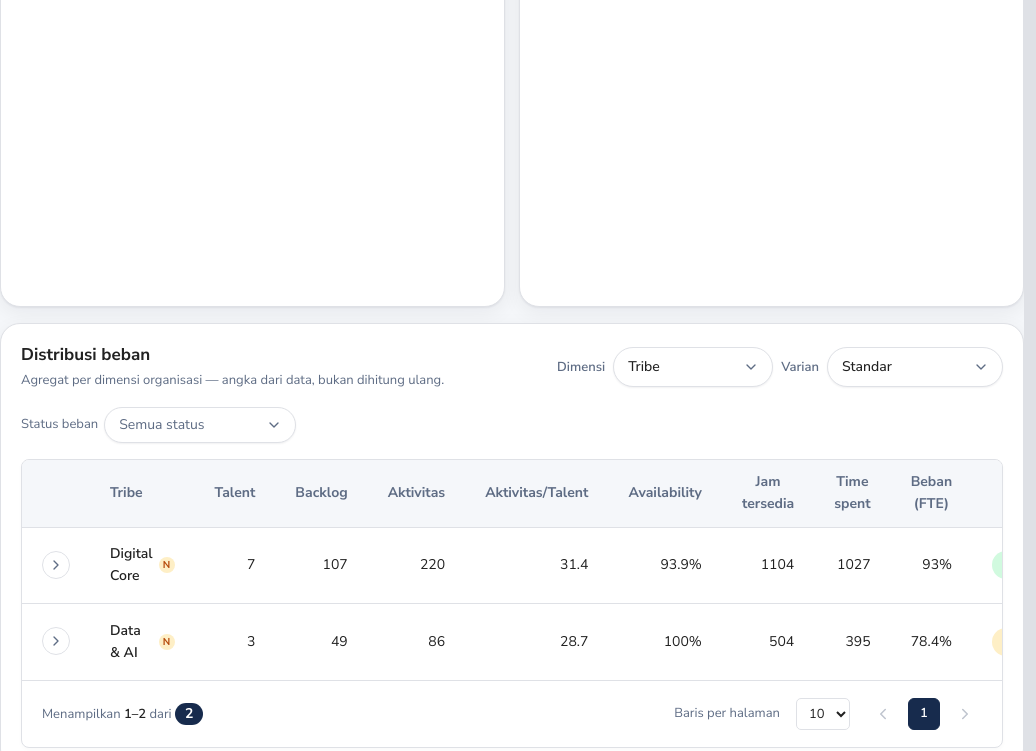
ExecutiveReportView — KPI, chart & distribusi dari data (TAN-229/230/231) › renders the normalized variant with its own columns
(page scrolled)
Expected: the heading "Distribusi beban" is shown, [21,343,150,366]
Select "Ternormalisasi" in the dropdown named "Varian tabel distribusi": (915, 367) [827,347,1003,387]
(page scrolled)
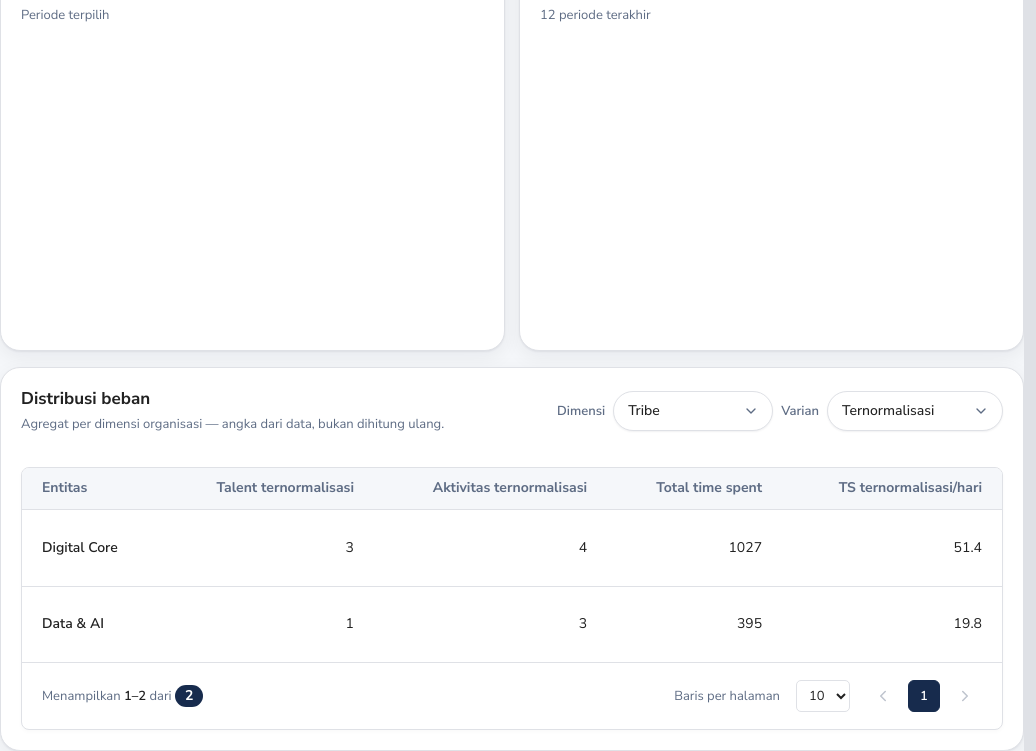
Now the column heading "Aktivitas ternormalisasi" is shown, box [374,468,607,510]
